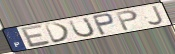D: (43, 22, 72, 44)
E: (19, 24, 53, 49)
J: (147, 5, 165, 26)
P: (91, 13, 116, 36), (115, 9, 140, 32)
U: (68, 16, 97, 38)
